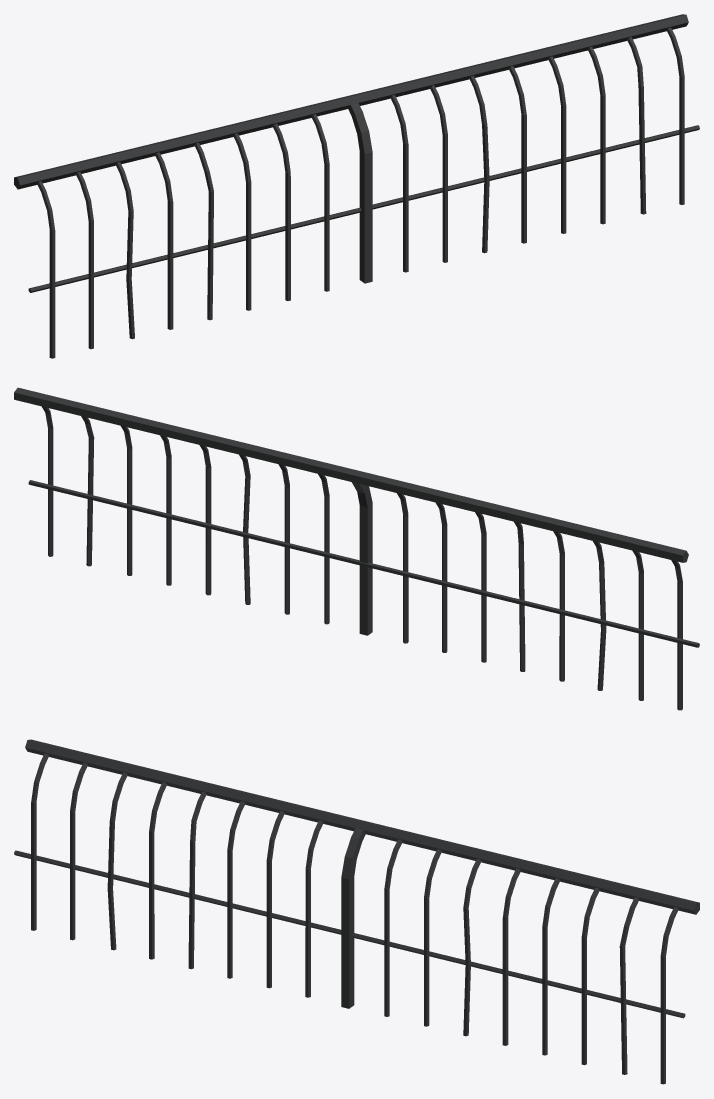
File: SM_Envr_Seawall_Fence.fbx
3 views of the same model, one above another, from view 1: azimuth 30°, elevation 25°; view 2: azimuth 150°, elevation 25°; view 3: azimuth 330°, elevation 25° (orthographic).
Visible parts, largest first — view 1: SM_Envr_Seawall_Fence; view 2: SM_Envr_Seawall_Fence; view 3: SM_Envr_Seawall_Fence.
Boxes of the visible parts, <box> form: SM_Envr_Seawall_Fence: <box>14,14,699,358</box>; SM_Envr_Seawall_Fence: <box>14,387,699,710</box>; SM_Envr_Seawall_Fence: <box>14,739,699,1084</box>.
Size of the model in its own units: 500 by 124 by 26.37.
